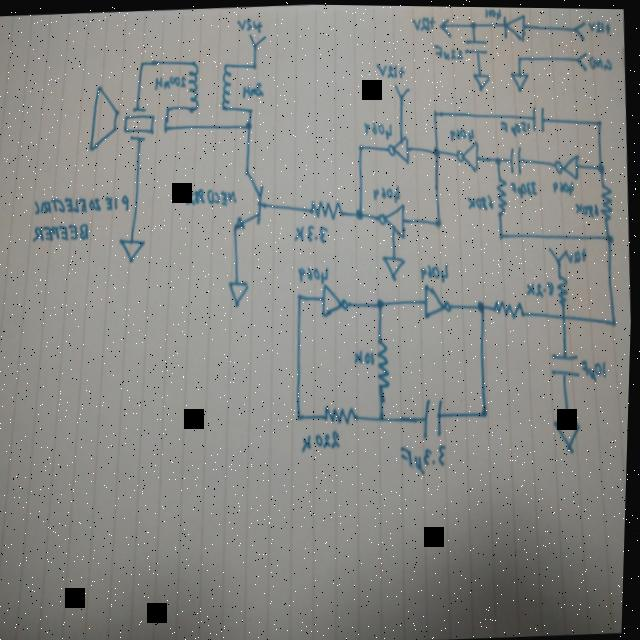capacitor: (423, 394, 448, 441), (552, 349, 584, 379), (463, 35, 490, 55), (509, 143, 526, 174), (532, 103, 548, 132)
crossover: (558, 308, 571, 323)
diode: (501, 10, 528, 42)
ground: (553, 413, 588, 454), (119, 235, 149, 264), (382, 252, 409, 281), (229, 278, 253, 308), (511, 68, 532, 92), (472, 70, 493, 91)
inductor: (186, 58, 203, 113), (219, 61, 236, 112)
junction: (373, 291, 390, 313), (429, 142, 445, 161), (475, 295, 490, 314), (603, 228, 618, 247), (433, 214, 448, 231), (294, 406, 308, 424), (354, 204, 368, 222), (596, 158, 609, 176), (608, 313, 621, 331), (378, 409, 391, 426), (481, 404, 494, 421), (294, 288, 307, 305), (493, 149, 505, 166), (497, 227, 509, 244), (355, 138, 367, 154), (431, 105, 443, 119), (245, 103, 257, 116), (249, 58, 261, 71), (161, 122, 172, 136), (244, 118, 255, 131), (137, 57, 148, 70), (469, 16, 480, 29), (164, 101, 174, 113), (597, 115, 606, 126), (515, 52, 524, 62)
resistor: (376, 333, 394, 392), (324, 401, 365, 425), (492, 295, 530, 320), (308, 197, 349, 220), (600, 177, 617, 222), (495, 173, 512, 218), (558, 268, 573, 308)
terminal: (548, 241, 570, 266), (572, 16, 589, 43), (245, 30, 270, 47), (438, 13, 454, 38), (576, 48, 591, 71), (393, 81, 413, 98)
text: (34, 192, 132, 218), (402, 442, 451, 476), (33, 220, 92, 244), (185, 184, 240, 207), (304, 428, 345, 453), (293, 221, 331, 243), (582, 355, 611, 381), (433, 40, 466, 62), (364, 118, 395, 141), (422, 259, 453, 282), (509, 176, 541, 198), (527, 277, 558, 299), (298, 264, 332, 284), (500, 117, 533, 137), (372, 182, 403, 203), (233, 14, 265, 33), (467, 190, 497, 210), (376, 61, 408, 79), (154, 73, 188, 89), (588, 52, 615, 72), (575, 199, 602, 218), (410, 13, 437, 32), (448, 125, 478, 142), (353, 346, 379, 365), (241, 80, 267, 98), (587, 17, 614, 34), (553, 177, 578, 195), (567, 245, 590, 264), (484, 6, 504, 19)
transistor: (231, 166, 272, 235)
